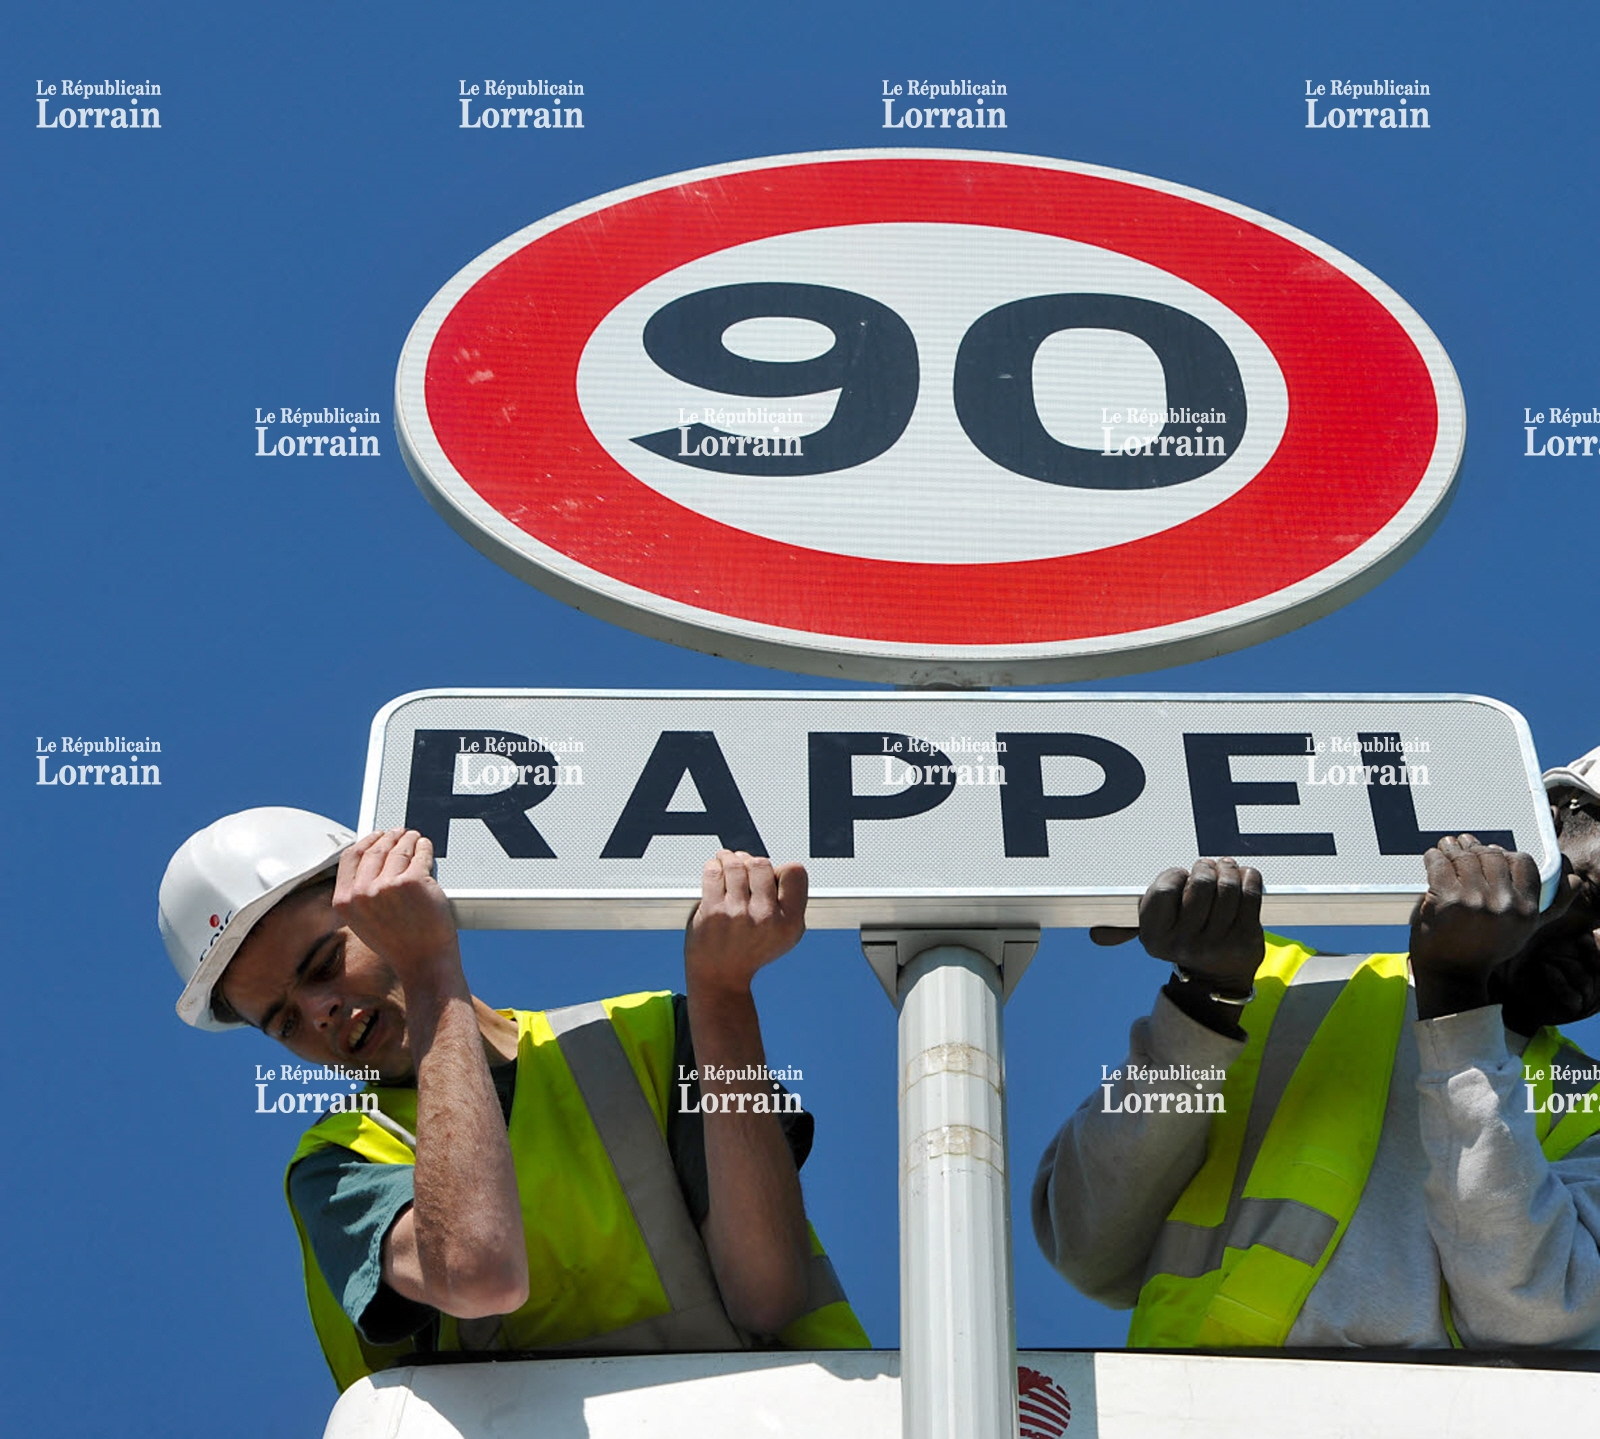Speed_limit_90km: (396, 142, 1476, 682)
